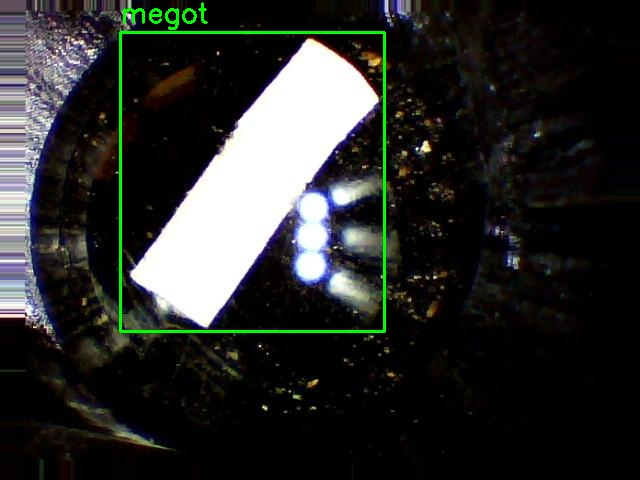megot: (120, 32, 384, 331)
